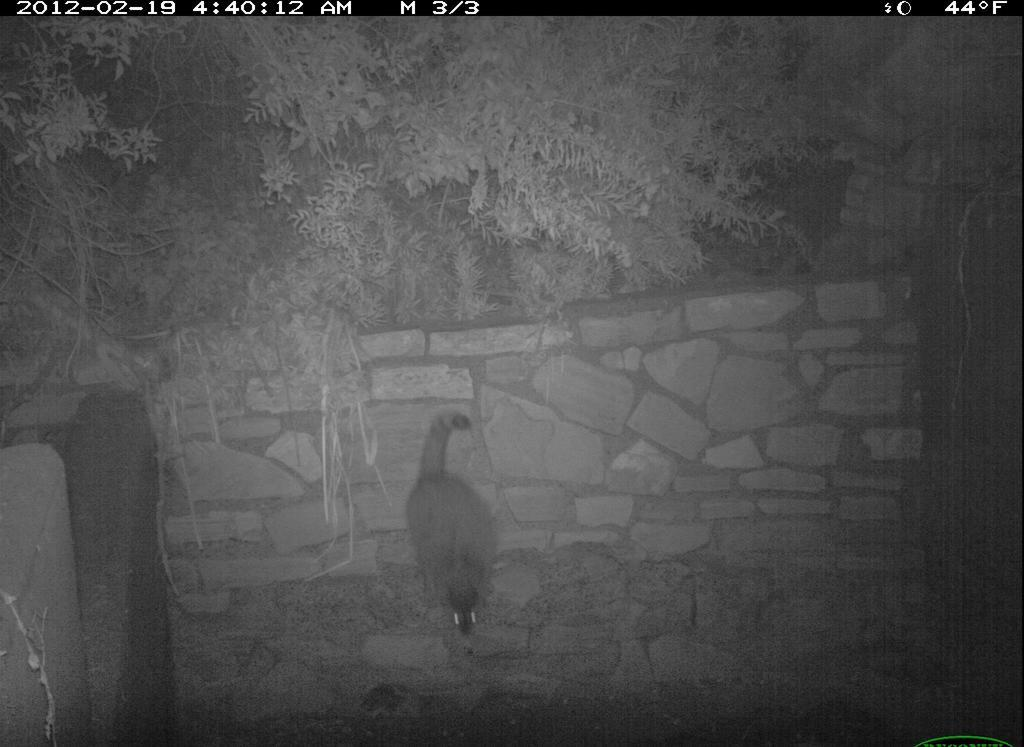raccoon: (402, 408, 510, 642)
